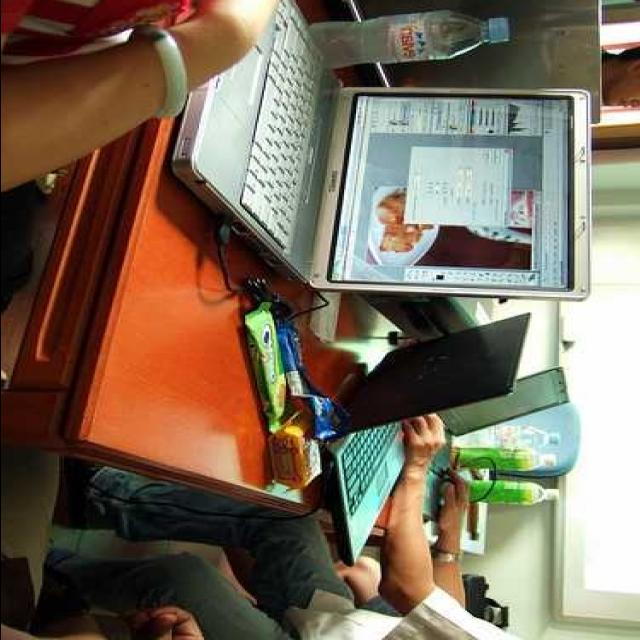laptop: (184, 1, 582, 302), (310, 312, 536, 564)
